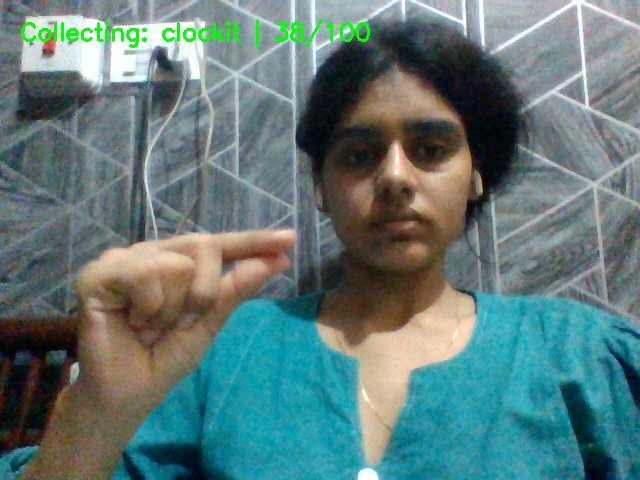clockit: (72, 221, 321, 396)
